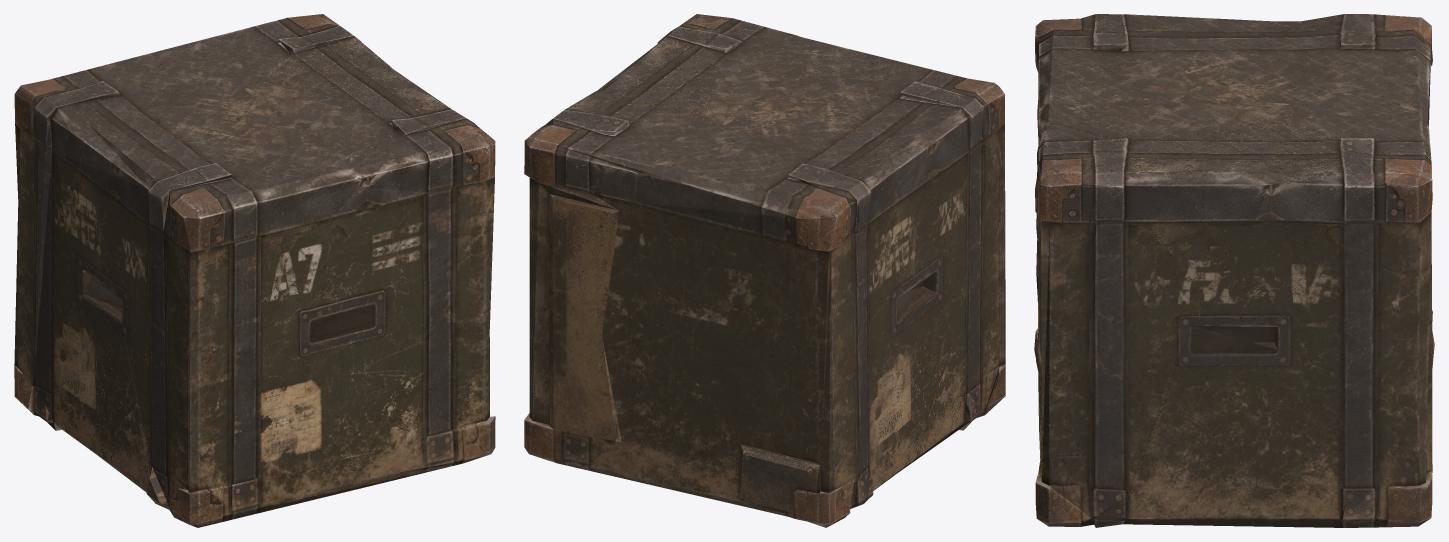
Rendered from crate.glb.
3 views of the same model, side by side, from view 1: azimuth 30°, elevation 25°; view 2: azimuth 150°, elevation 25°; view 3: azimuth 270°, elevation 25° (orthographic). The views are drawn at different scales.
Size of the model in its own units: 1.9 by 1.87 by 1.89.
1 material, 1 textured.
